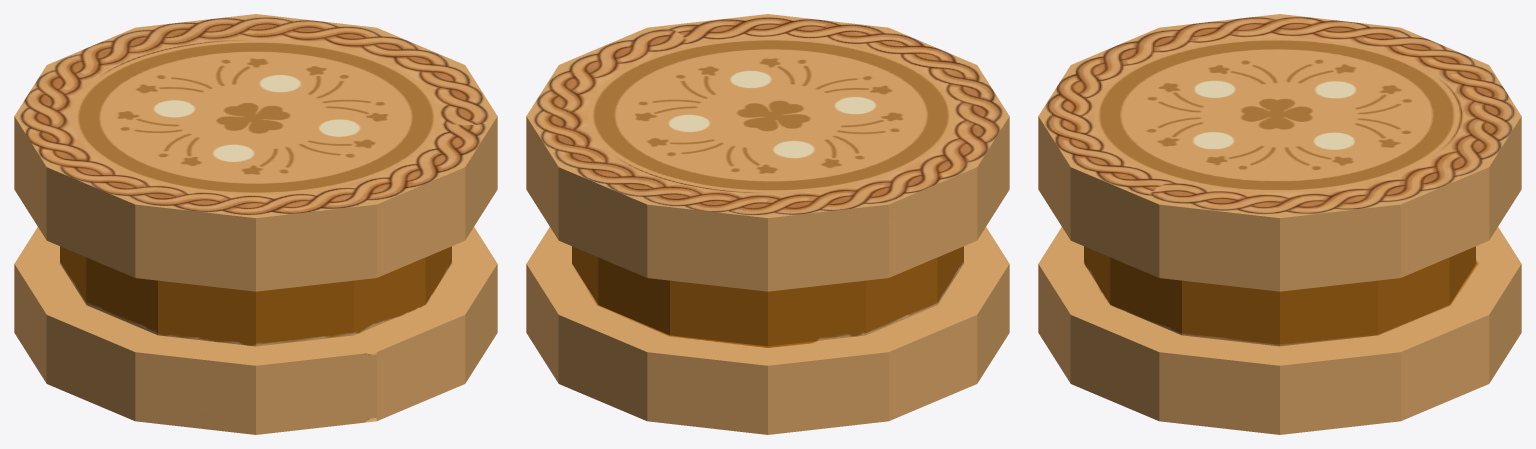
File: galleta.fbx
3 views of the same model, side by side, from view 1: azimuth 30°, elevation 25°; view 2: azimuth 150°, elevation 25°; view 3: azimuth 270°, elevation 25° (orthographic).
Visible parts, largest first — view 1: pasted__pasted__pCylinder3; view 2: pasted__pasted__pCylinder3; view 3: pasted__pasted__pCylinder3.
Boxes of the visible parts, x1=… form: pasted__pasted__pCylinder3: x1=14, y1=14, x2=497, y2=434; pasted__pasted__pCylinder3: x1=526, y1=14, x2=1009, y2=434; pasted__pasted__pCylinder3: x1=1038, y1=14, x2=1521, y2=434.
Size of the model in its own units: 17.78 by 8.8 by 17.78.
1 material, 1 textured.
